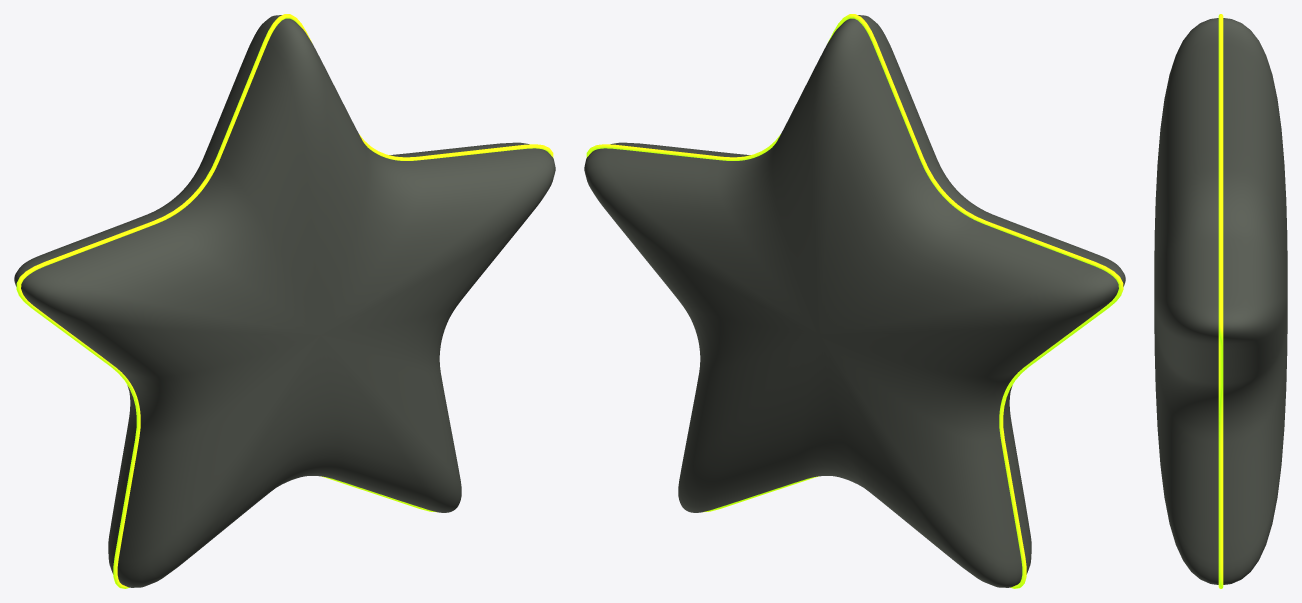
File: ifriqiya-star.glb
3 renders of one model, left to right at view 1: azimuth 30°, elevation 25°; view 2: azimuth 150°, elevation 25°; view 3: azimuth 270°, elevation 25°, orthographic. The views are drawn at different scales.
Visible parts, largest first — view 1: Ifriqiya Star | chrome body, Ifriqiya Star | lime inlay; view 2: Ifriqiya Star | chrome body, Ifriqiya Star | lime inlay; view 3: Ifriqiya Star | chrome body, Ifriqiya Star | lime inlay.
Part boxes in pixels (bbox=[...]): Ifriqiya Star | chrome body: bbox=[14, 15, 555, 587]; Ifriqiya Star | lime inlay: bbox=[16, 14, 553, 588]; Ifriqiya Star | chrome body: bbox=[584, 15, 1125, 587]; Ifriqiya Star | lime inlay: bbox=[586, 14, 1123, 588]; Ifriqiya Star | chrome body: bbox=[1154, 18, 1287, 584]; Ifriqiya Star | lime inlay: bbox=[1218, 14, 1223, 588].
Size of the model in its own units: 3.77 by 3.6 by 0.8699.
